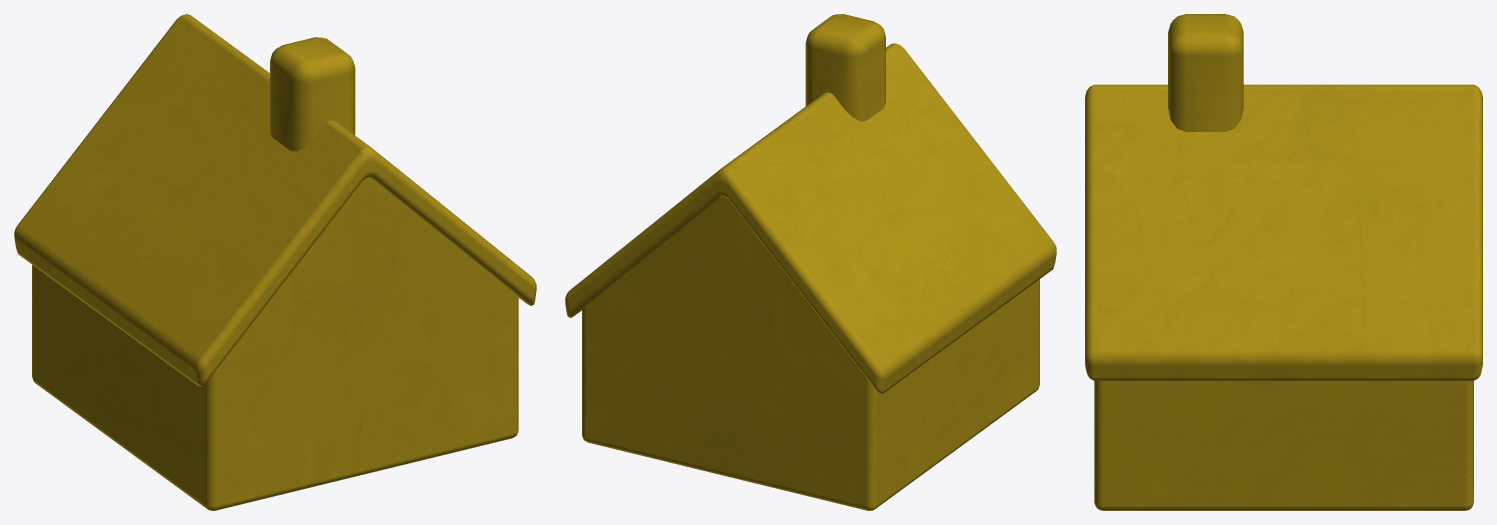
The model's file is Plastic_House_1.fbx.
3 renders of one model, left to right at view 1: azimuth 30°, elevation 25°; view 2: azimuth 150°, elevation 25°; view 3: azimuth 270°, elevation 25°, orthographic. The views are drawn at different scales.
Parts seen in each view (by area): view 1: Plastic_House_1; view 2: Plastic_House_1; view 3: Plastic_House_1.
Part boxes in pixels (box(x1,y1,x2,y2)): Plastic_House_1: box(14, 14, 536, 510); Plastic_House_1: box(565, 14, 1056, 510); Plastic_House_1: box(1085, 14, 1482, 510).
Bounding box in the file's own units: 1.7 × 1.86 × 1.63.
